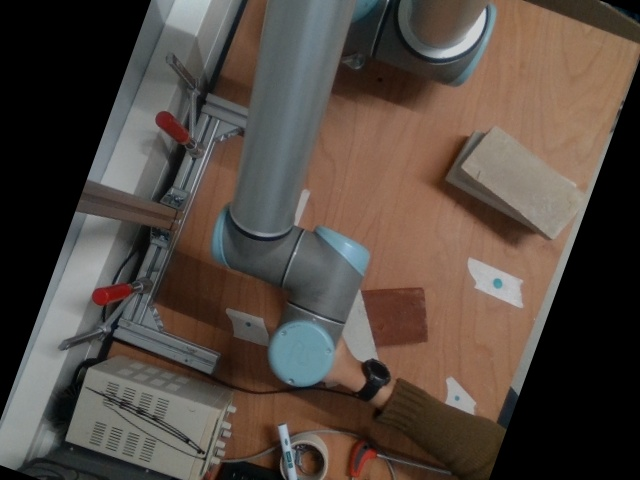brick: (466, 127, 584, 236)
